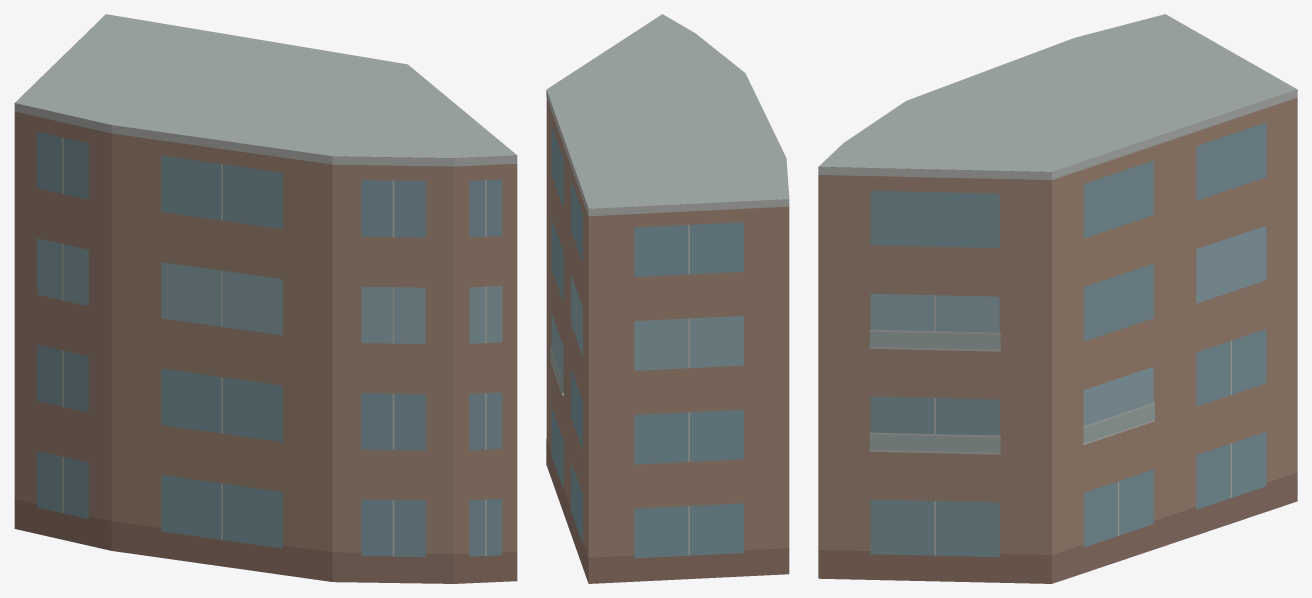
The model's file is survey-upis-32472143.glb.
The picture shows the model from 3 angles, left to right: view 1: azimuth 30°, elevation 25°; view 2: azimuth 150°, elevation 25°; view 3: azimuth 270°, elevation 25°; orthographic projection. The views are drawn at different scales.
Visible parts, largest first — view 1: survey-upis-32472143.tmp; view 2: survey-upis-32472143.tmp; view 3: survey-upis-32472143.tmp.
Part boxes in pixels (left/top/right/bottom): survey-upis-32472143.tmp: left=14, top=14, right=517, bottom=583; survey-upis-32472143.tmp: left=546, top=14, right=789, bottom=583; survey-upis-32472143.tmp: left=818, top=14, right=1297, bottom=583.
Size of the model in its own units: 10.12 by 12.3 by 12.98.
